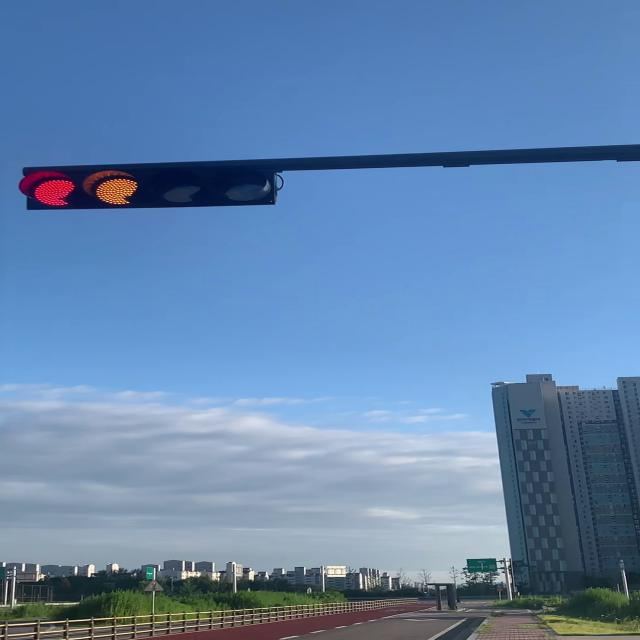yellow_light: (16, 164, 275, 209)
